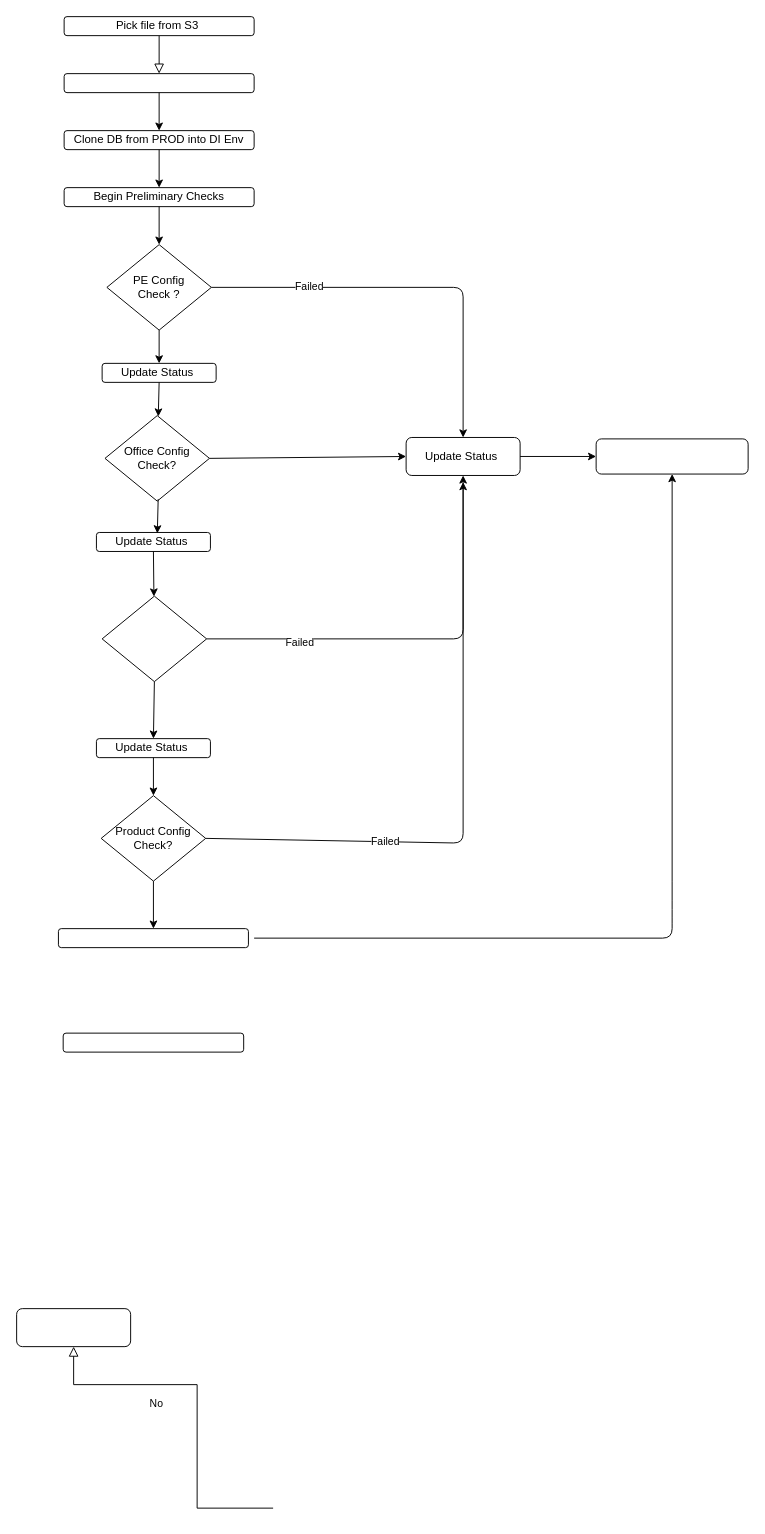
Some shapes in this 765 by 1534 pixel diagram are drawn without their labels. The shapes that lost their labels are listed below. From the top down, each one's centre as x and y in pixels, then its label:
(158,83): Create Tenant on DI Env
(671,456): Notification Sent to Front end
(154,638): Officer Config Check?
(152,938): Preliminary Checks Complete
(73,1327): Repair Lamp
